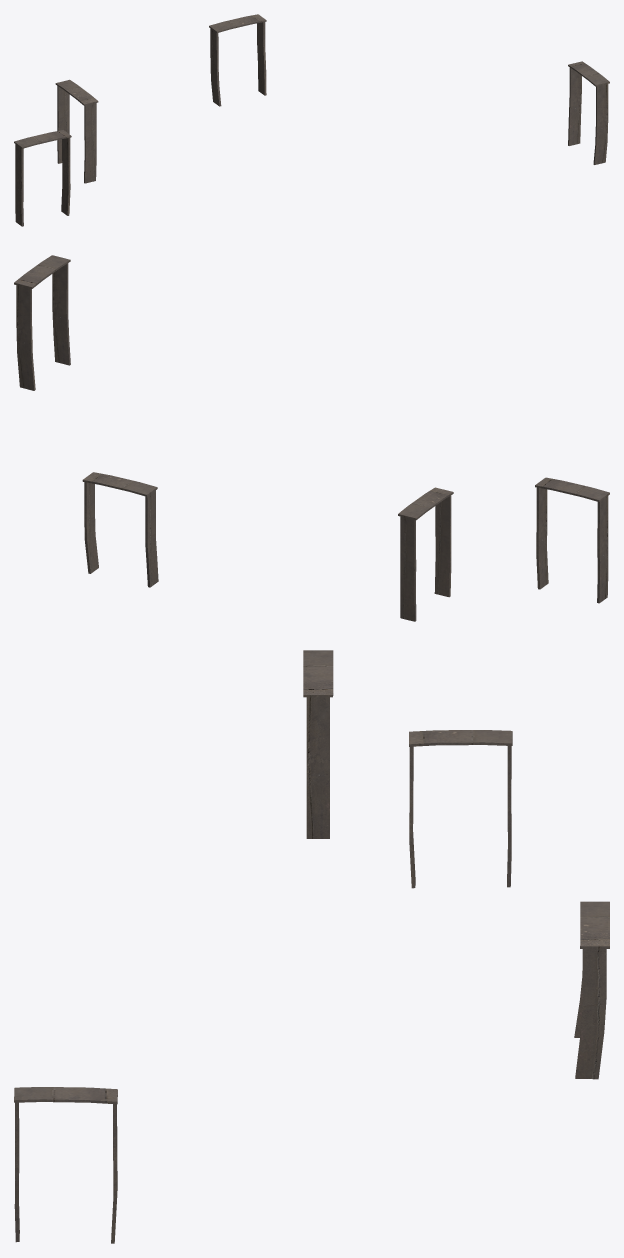
File: Corridor_01_08.fbx
The picture shows the model from 3 angles, top to bottom: view 1: azimuth 30°, elevation 25°; view 2: azimuth 150°, elevation 25°; view 3: azimuth 270°, elevation 25°; orthographic projection. The views are drawn at different scales.
Visible parts, largest first — view 1: Corridor_01_08; view 2: Corridor_01_08; view 3: Corridor_01_08.
Boxes of the visible parts, x1=… form: Corridor_01_08: x1=14, y1=14, x2=609, y2=226; Corridor_01_08: x1=14, y1=255, x2=609, y2=621; Corridor_01_08: x1=14, y1=650, x2=609, y2=1243.
Bounding box in the file's own units: 1999 × 304 × 1117.
